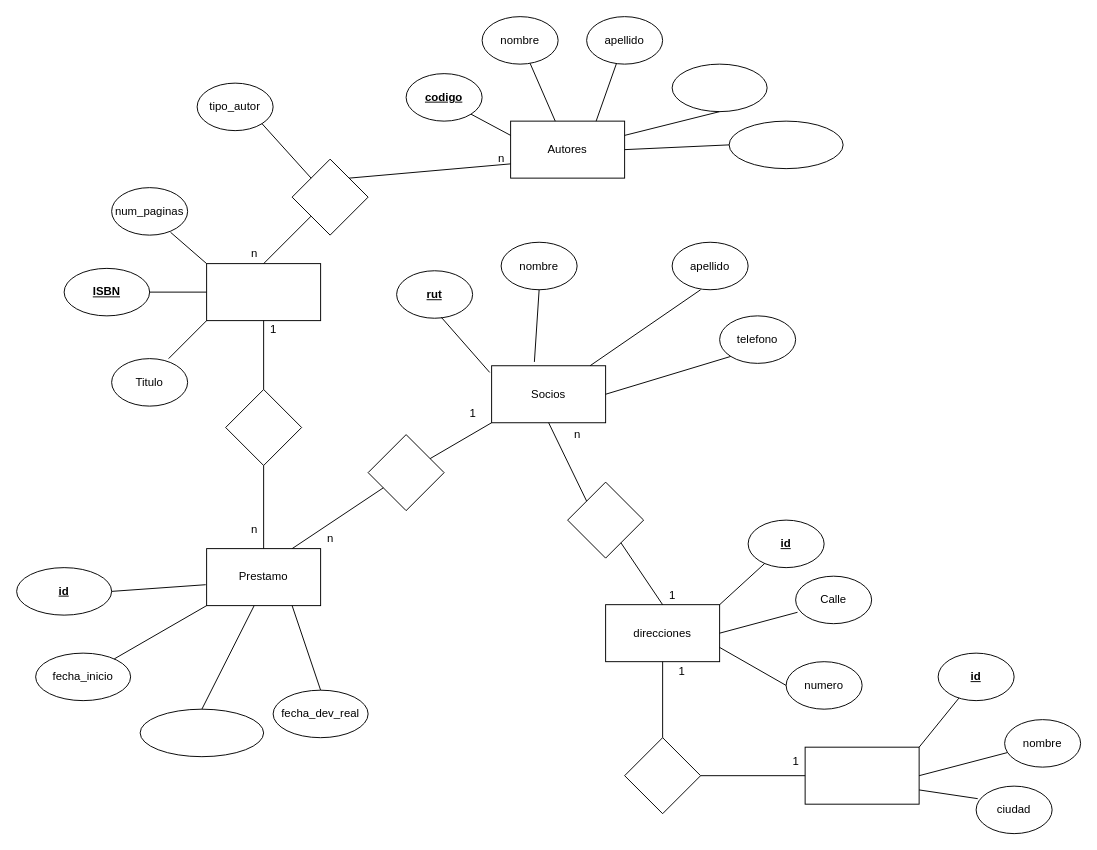
The diagram is 1097 pixels wide and 850 high, and some of its shapes have lost their labels. The centre of each missing label's shape, as x and y in pixels:
comunas: point 861,775
contiene: point 263,427
fecha_dev_esperada: point 201,732
fecha_fallecimiento: point 785,144
fecha_nacimiento: point 719,87
Libros: point 263,292
pertenece: point 662,775
solicita: point 405,472
tiene: point 329,196
vive: point 605,519
